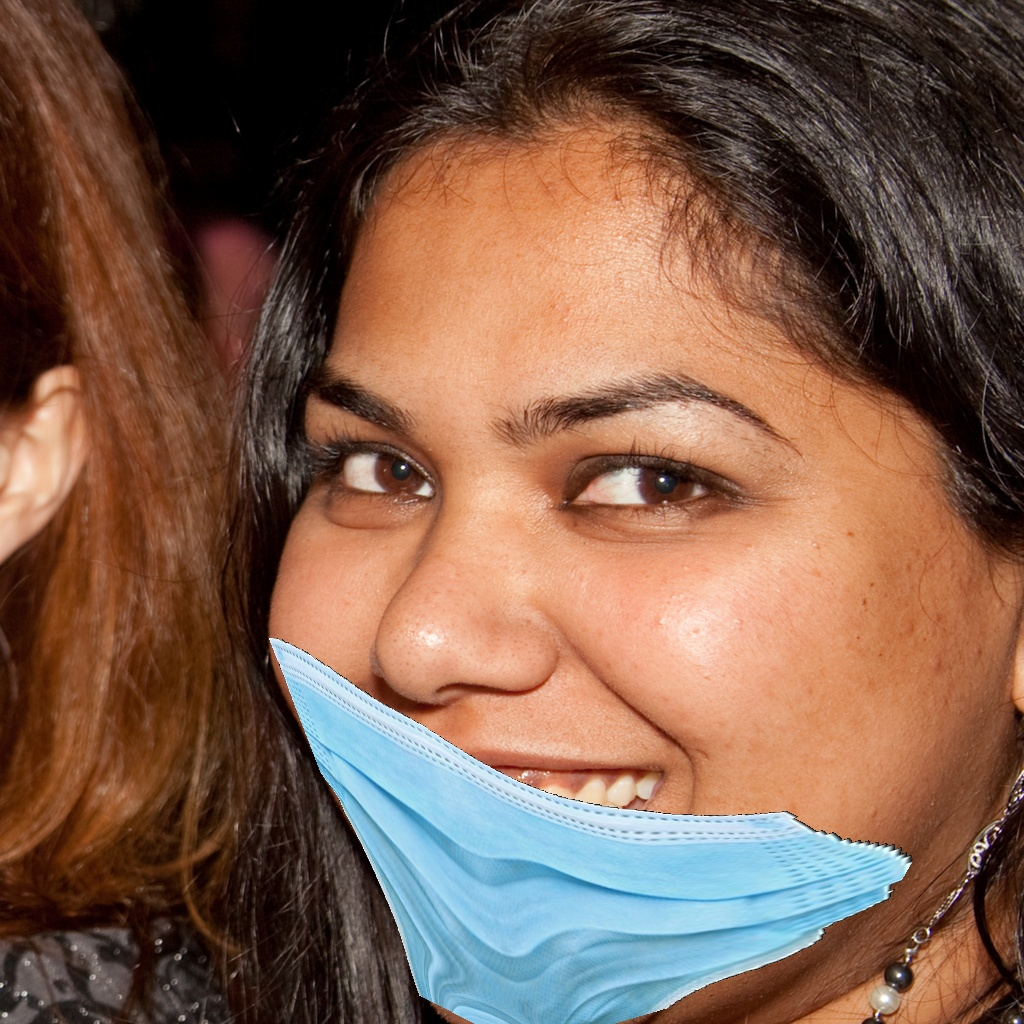mascarilla_mal_puesta: (252, 323, 952, 1024)
